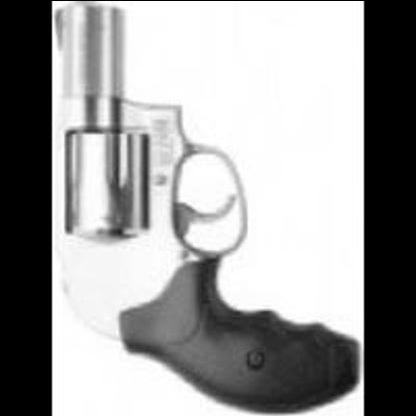weapon: (51, 3, 364, 416)
